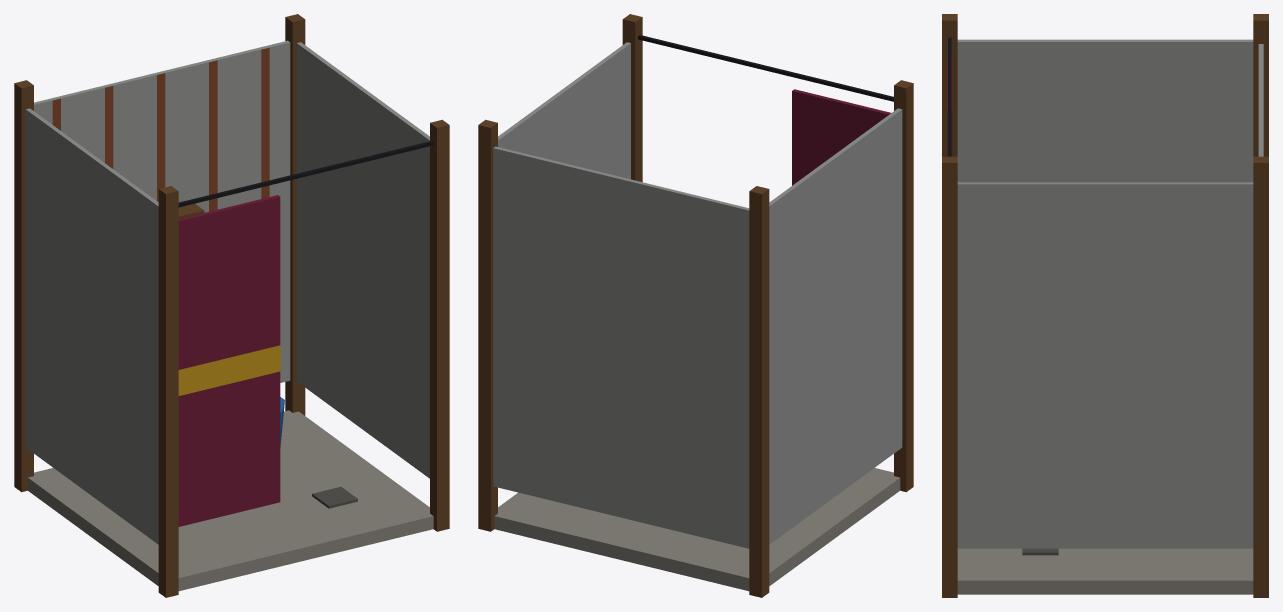
The model's file is prop_bath-corner.glb.
3 views of the same model, side by side, from view 1: azimuth 30°, elevation 25°; view 2: azimuth 150°, elevation 25°; view 3: azimuth 270°, elevation 25° (orthographic). The views are drawn at different scales.
Visible parts, largest first — view 1: body; view 2: body; view 3: body.
Part boxes in pixels (box(x1,y1,x2,y2)): body: box(14, 14, 449, 597); body: box(478, 14, 913, 597); body: box(942, 14, 1268, 597).
Bounding box in the file's own units: 1.36 × 1.85 × 1.26.
